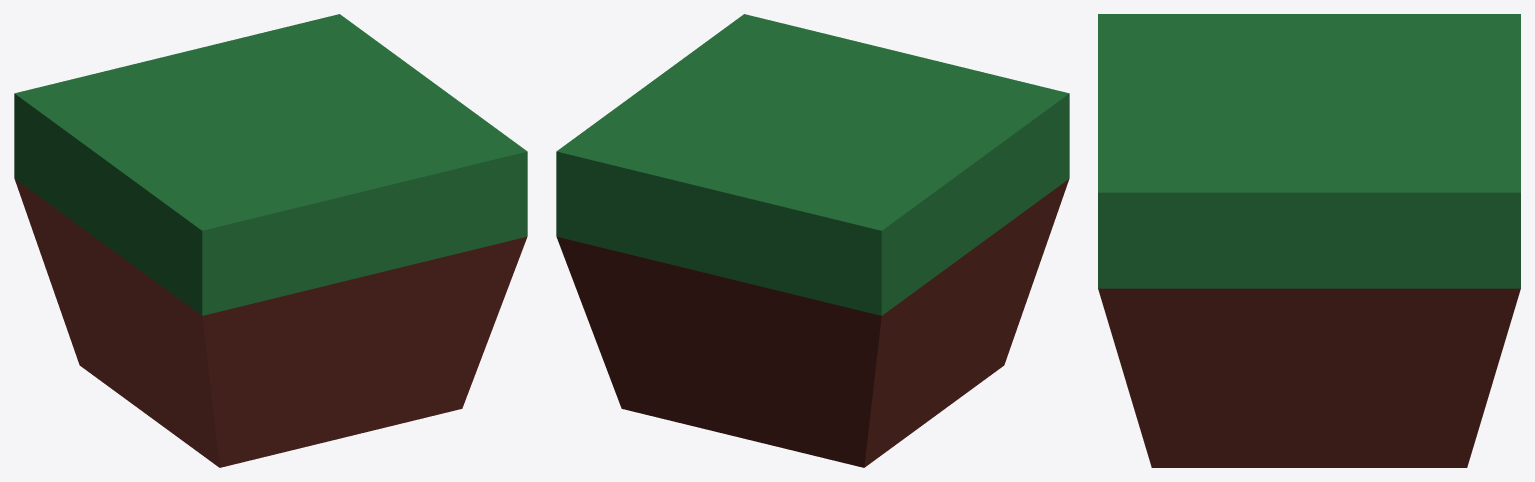
File: tileground3_empty.fbx
3 renders of one model, left to right at view 1: azimuth 30°, elevation 25°; view 2: azimuth 150°, elevation 25°; view 3: azimuth 270°, elevation 25°, orthographic. The views are drawn at different scales.
Visible parts, largest first — view 1: chao3; view 2: chao3; view 3: chao3.
Part boxes in pixels (x1,y1,x2,y2): chao3: [14, 14, 527, 467]; chao3: [556, 14, 1069, 467]; chao3: [1098, 14, 1520, 467].
Size of the model in its own units: 465 by 362 by 465.
